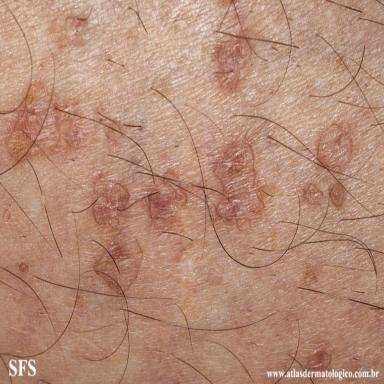Porokeratosis: (7, 82, 90, 160), (213, 141, 262, 227), (94, 231, 143, 290), (214, 37, 253, 89), (92, 174, 130, 227), (148, 171, 187, 219), (318, 123, 353, 170), (66, 14, 88, 44), (305, 348, 331, 369), (303, 183, 323, 204), (330, 181, 345, 207)
